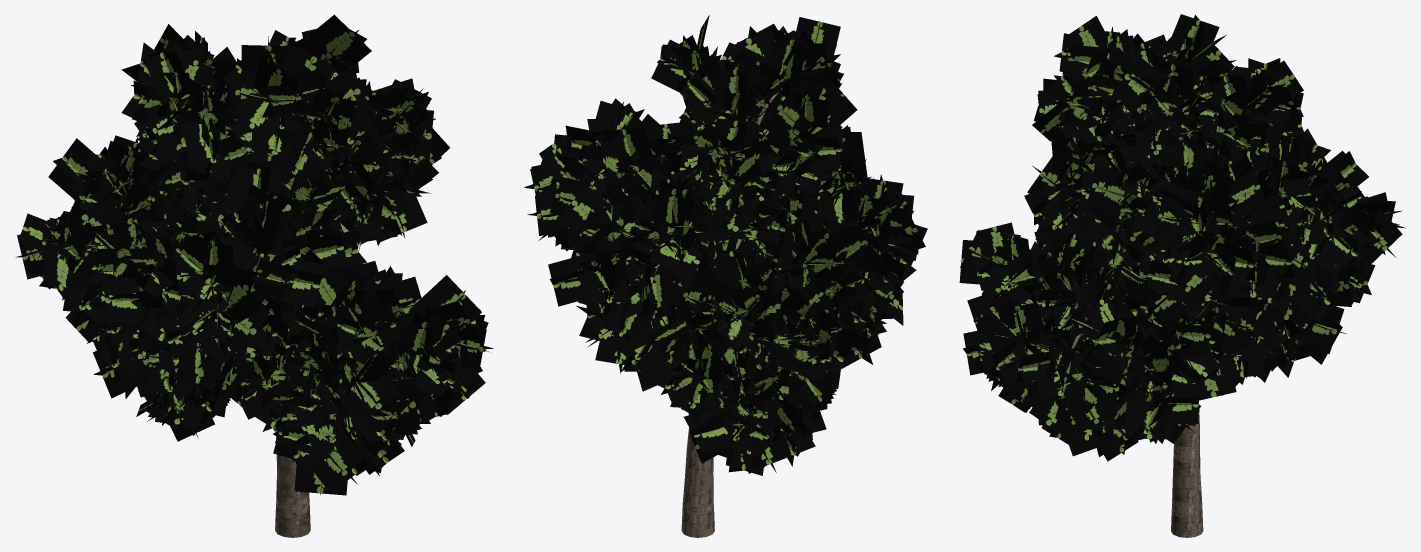
The model's file is street-tree.glb.
3 views of the same model, side by side, from view 1: azimuth 30°, elevation 25°; view 2: azimuth 150°, elevation 25°; view 3: azimuth 270°, elevation 25° (orthographic). The views are drawn at different scales.
Visible parts, largest first — view 1: street_tree_leaves, street_tree_trunk; view 2: street_tree_leaves, street_tree_trunk; view 3: street_tree_leaves, street_tree_trunk.
Part boxes in pixels (x1,y1,x2,y2): street_tree_leaves: [15, 14, 493, 495]; street_tree_trunk: [85, 114, 397, 537]; street_tree_leaves: [524, 15, 927, 475]; street_tree_trunk: [620, 88, 799, 537]; street_tree_leaves: [959, 14, 1405, 461]; street_tree_trunk: [1067, 111, 1315, 537].
Size of the model in its own units: 49.36 by 65.65 by 55.21.
2 materials, 2 textured.
